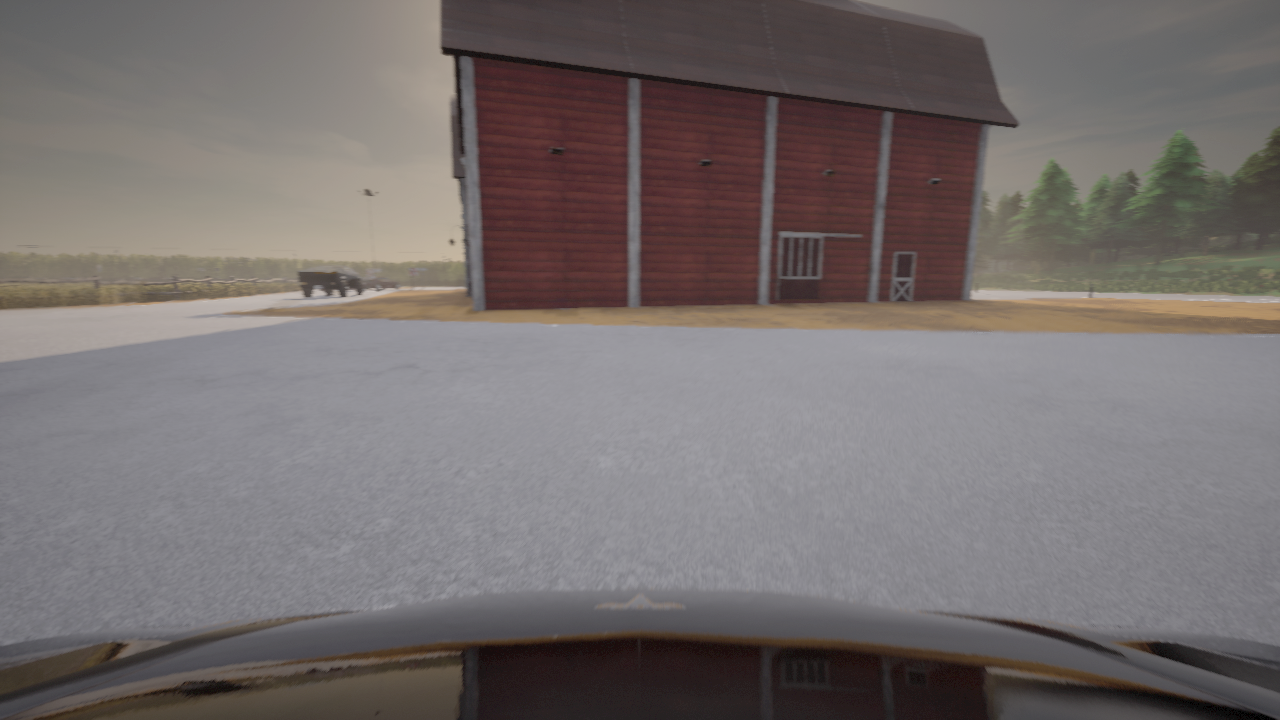cyclist: (0, 588, 1279, 719), (297, 265, 363, 297), (362, 275, 400, 290)
